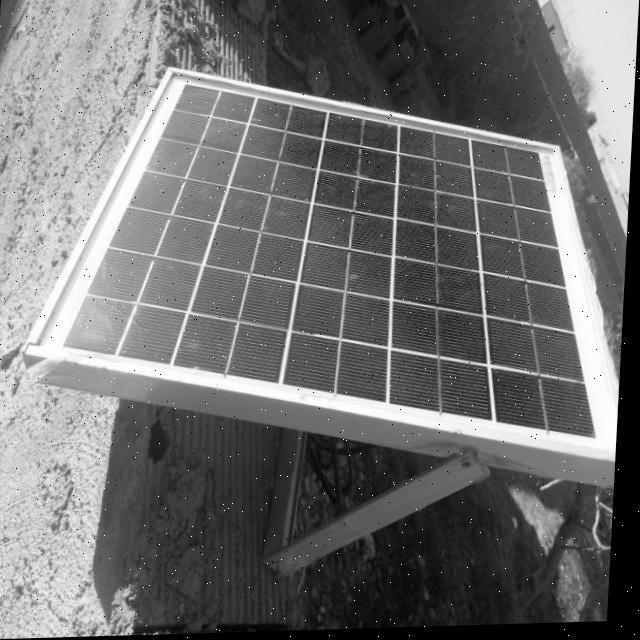Normal Solar Panel: (26, 53, 637, 480)
